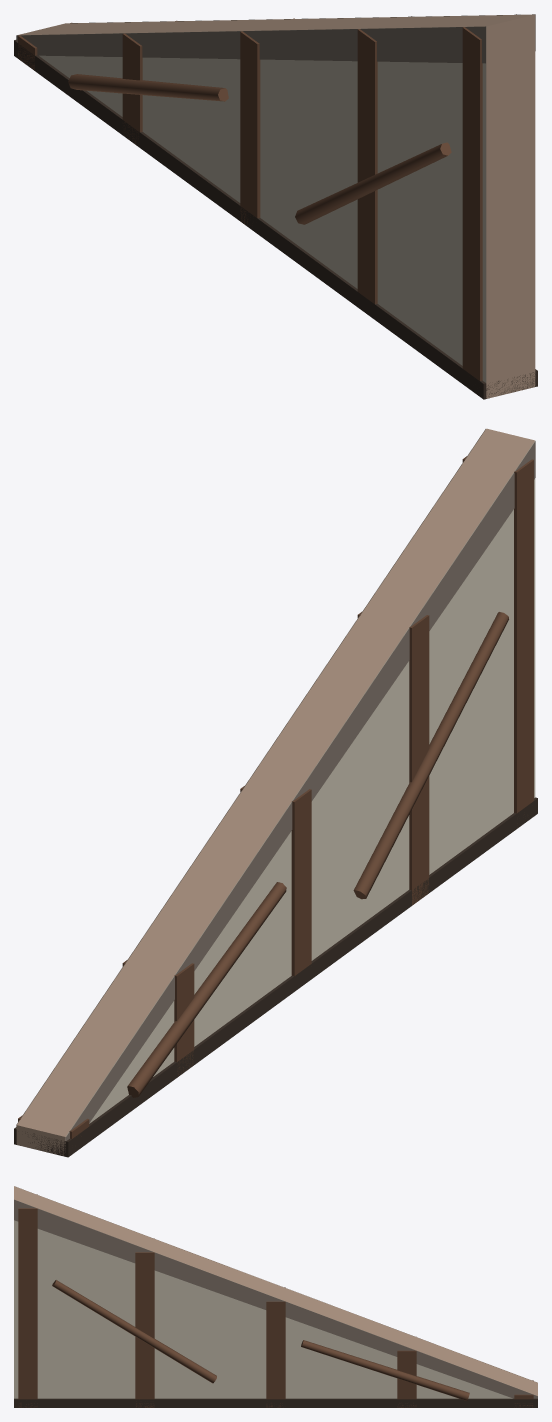
The model's file is Wall_GableFill_22p5_Left.glb.
3 views of the same model, one above another, from view 1: azimuth 30°, elevation 25°; view 2: azimuth 150°, elevation 25°; view 3: azimuth 270°, elevation 25° (orthographic). The views are drawn at different scales.
Parts seen in each view (by area): view 1: _MeshInstance3D_3893, _MeshInstance3D_3894, _MeshInstance3D_3899, _MeshInstance3D_3898, _MeshInstance3D_3897, _MeshInstance3D_3902, _MeshInstance3D_3900, _MeshInstance3D_3896; view 2: _MeshInstance3D_3893, _MeshInstance3D_3894, _MeshInstance3D_3899, _MeshInstance3D_3898, _MeshInstance3D_3902, _MeshInstance3D_3900, _MeshInstance3D_3897, _MeshInstance3D_3896; view 3: _MeshInstance3D_3893, _MeshInstance3D_3894, _MeshInstance3D_3899, _MeshInstance3D_3898, _MeshInstance3D_3897, _MeshInstance3D_3903, _MeshInstance3D_3901, _MeshInstance3D_3896.
Part boxes in pixels (bbox=[...]): _MeshInstance3D_3893: bbox=[16, 14, 535, 398]; _MeshInstance3D_3894: bbox=[14, 40, 537, 399]; _MeshInstance3D_3899: bbox=[462, 14, 516, 380]; _MeshInstance3D_3898: bbox=[357, 16, 411, 304]; _MeshInstance3D_3897: bbox=[240, 18, 294, 227]; _MeshInstance3D_3902: bbox=[295, 142, 451, 224]; _MeshInstance3D_3900: bbox=[68, 74, 228, 101]; _MeshInstance3D_3896: bbox=[122, 20, 177, 146]; _MeshInstance3D_3893: bbox=[16, 428, 535, 1155]; _MeshInstance3D_3894: bbox=[14, 797, 537, 1157]; _MeshInstance3D_3899: bbox=[462, 456, 533, 827]; _MeshInstance3D_3898: bbox=[357, 612, 429, 905]; _MeshInstance3D_3902: bbox=[353, 612, 508, 899]; _MeshInstance3D_3900: bbox=[127, 882, 286, 1097]; _MeshInstance3D_3897: bbox=[240, 786, 311, 976]; _MeshInstance3D_3896: bbox=[122, 960, 194, 1076]; _MeshInstance3D_3893: bbox=[14, 1186, 537, 1398]; _MeshInstance3D_3894: bbox=[14, 1398, 537, 1407]; _MeshInstance3D_3899: bbox=[18, 1194, 37, 1407]; _MeshInstance3D_3898: bbox=[135, 1238, 154, 1407]; _MeshInstance3D_3897: bbox=[266, 1287, 285, 1407]; _MeshInstance3D_3903: bbox=[52, 1280, 216, 1383]; _MeshInstance3D_3901: bbox=[301, 1340, 469, 1400]; _MeshInstance3D_3896: bbox=[397, 1336, 416, 1407].
Bounding box in the file's own units: 0.2607 × 1.31 × 3.
